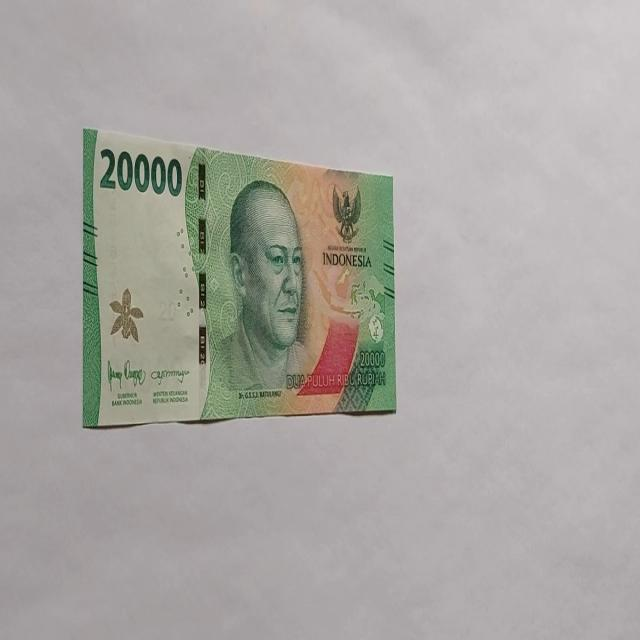dua puluh ribu rupiah: (81, 126, 396, 430)
